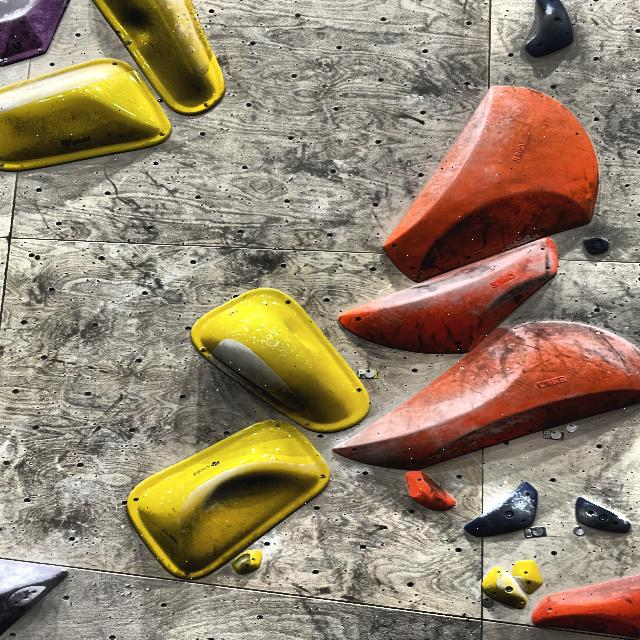Hold: (465, 482, 537, 537), (525, 0, 573, 57), (405, 471, 455, 511), (576, 497, 630, 533), (482, 567, 527, 609), (511, 560, 543, 594), (7, 584, 47, 607), (232, 549, 263, 575), (583, 237, 609, 255)
Macro: (334, 321, 640, 470), (384, 86, 598, 281), (129, 421, 329, 578), (191, 288, 369, 431), (339, 239, 558, 354), (0, 59, 170, 171), (93, 0, 225, 115), (532, 574, 640, 640), (0, 0, 69, 66)
start_tag: (574, 526, 585, 536), (481, 598, 493, 607), (532, 527, 543, 536), (566, 424, 577, 432), (364, 370, 375, 378), (552, 431, 562, 439)
